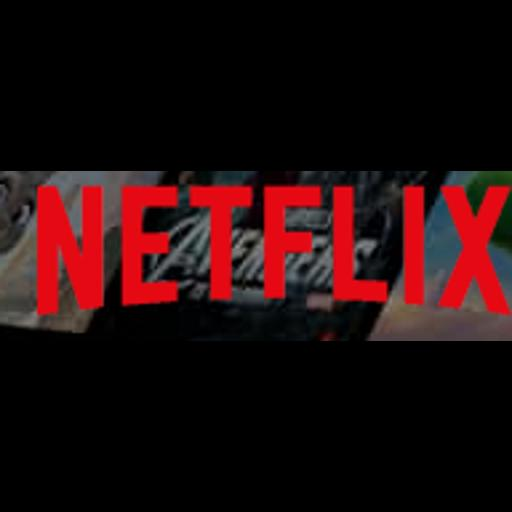Netflix: (0, 171, 512, 341)
